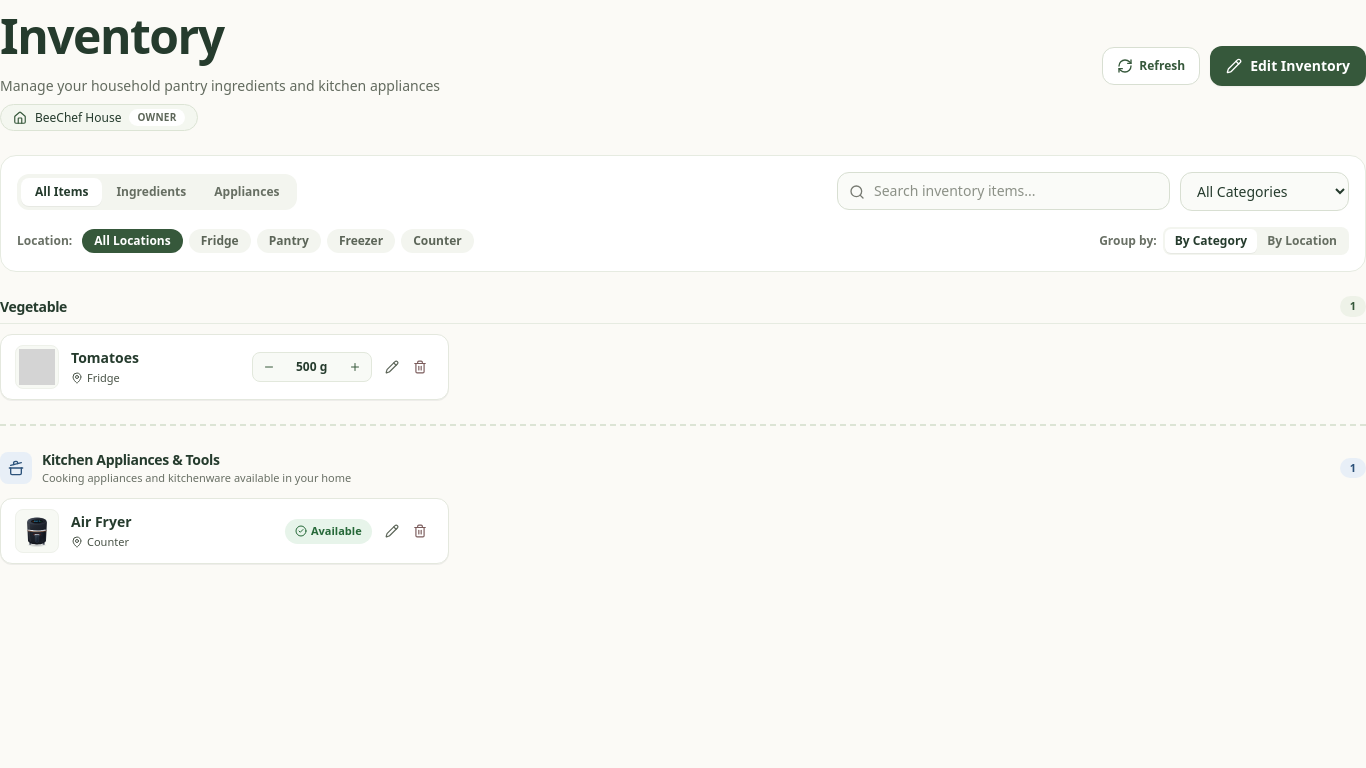
Test case: InventoryPage UI and API integration › edits an existing item via Edit Item modal and updates its display
Expected: the text "500 g" is shown, top-left (296, 358), bottom-right (327, 375)
Note: Click Edit on Tomatoes
Click the button named "Edit Tomatoes" at (392, 367), box top-left (378, 353), bottom-right (406, 381)
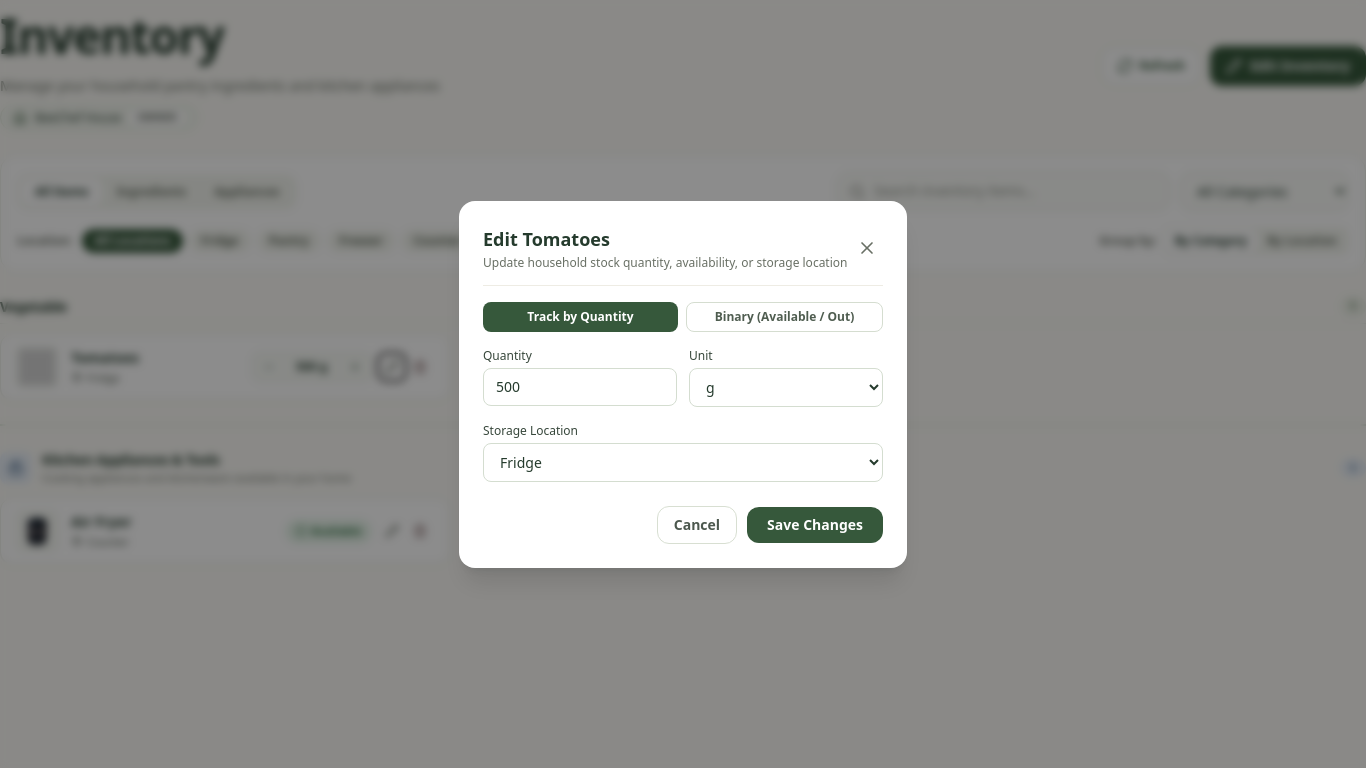
Replace the text in the number field labelled "Quantity" with "750" at (580, 386), box top-left (483, 368), bottom-right (677, 406)
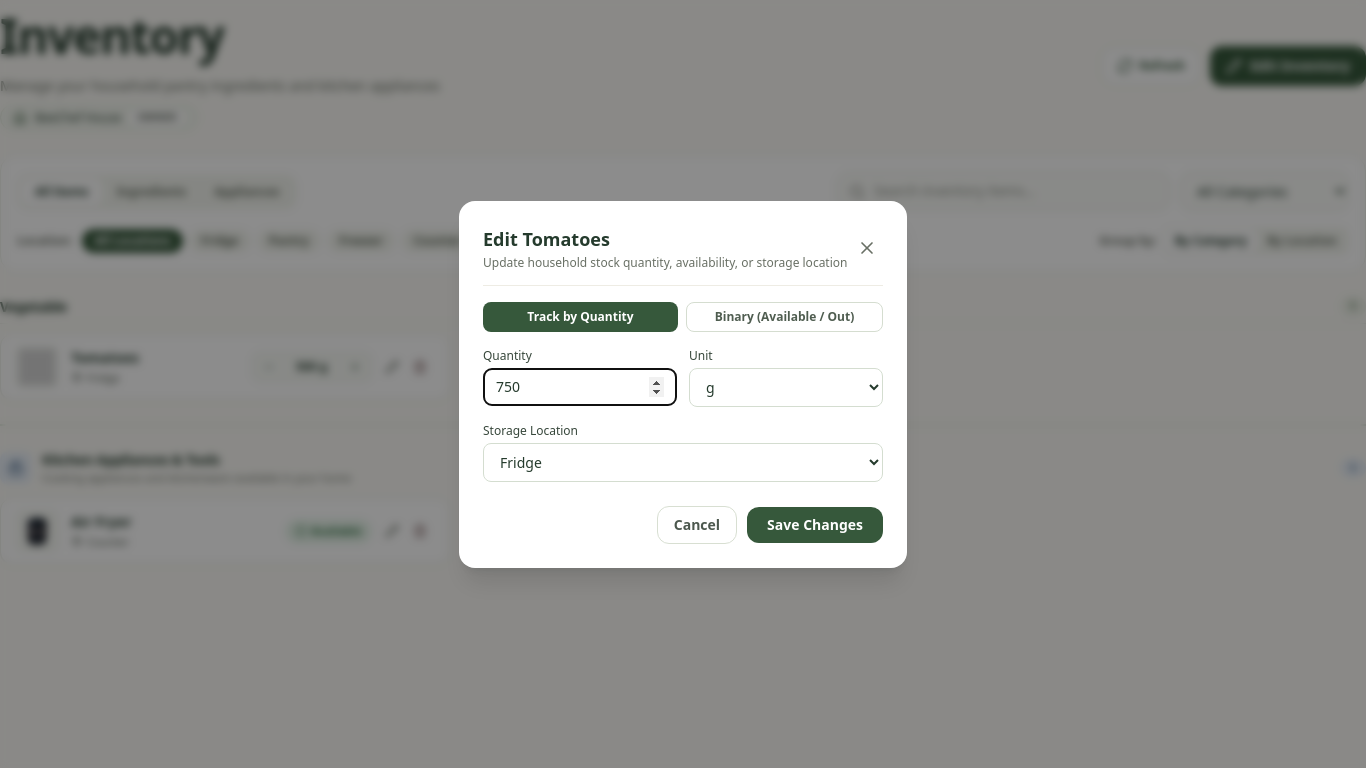
Click the button "Save Changes" at (815, 524), box top-left (747, 506), bottom-right (883, 542)
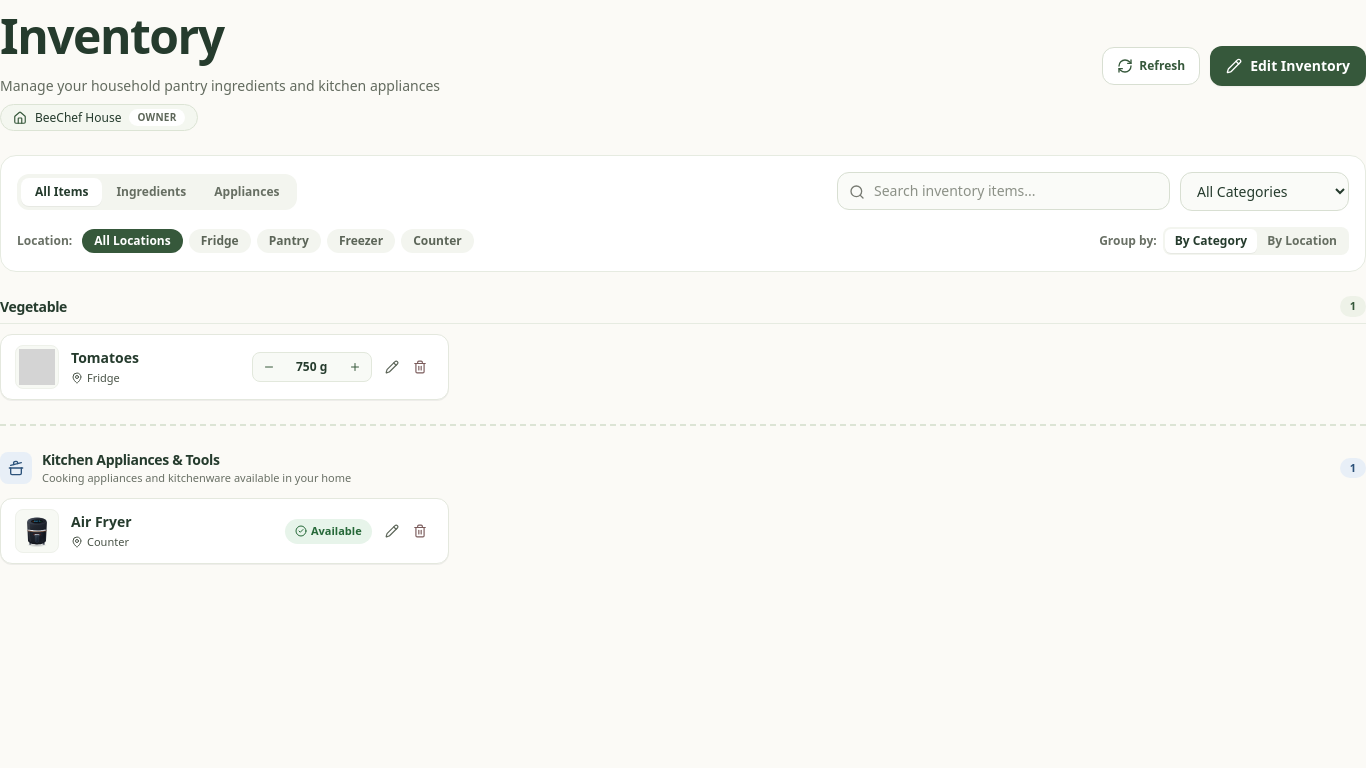
Expected: the text "750 g" is shown, top-left (296, 358), bottom-right (327, 375)
